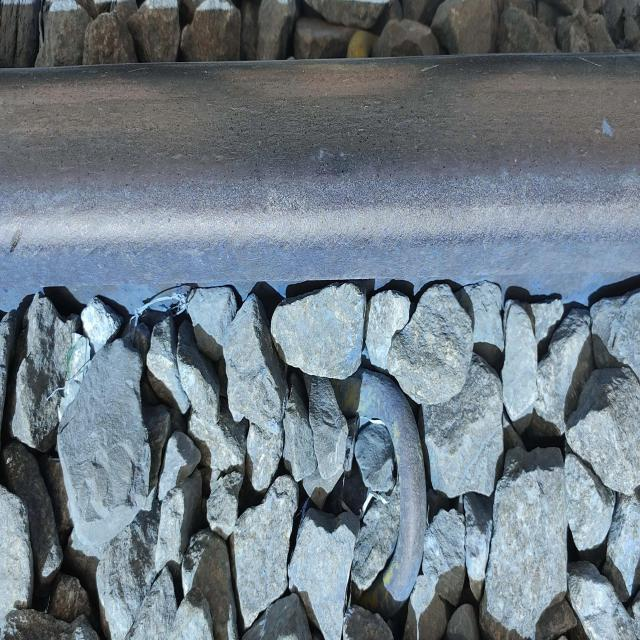head_checks_low: (599, 108, 615, 146)
